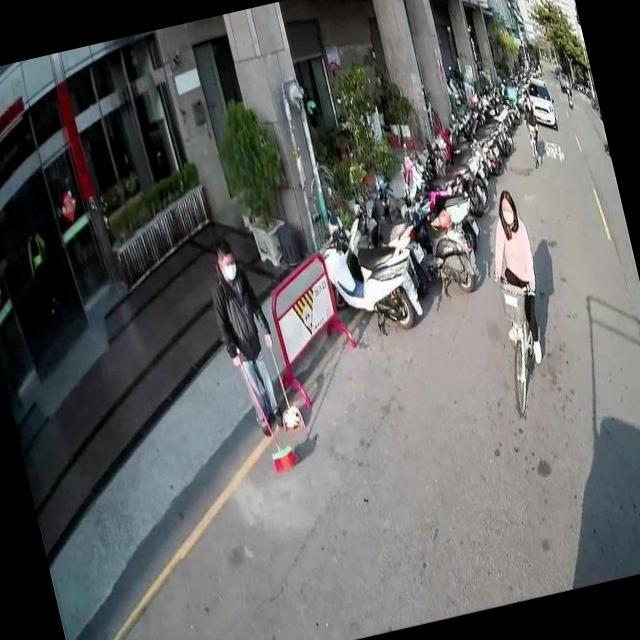person: (195, 227, 292, 440), (474, 184, 556, 370), (516, 89, 546, 160)
